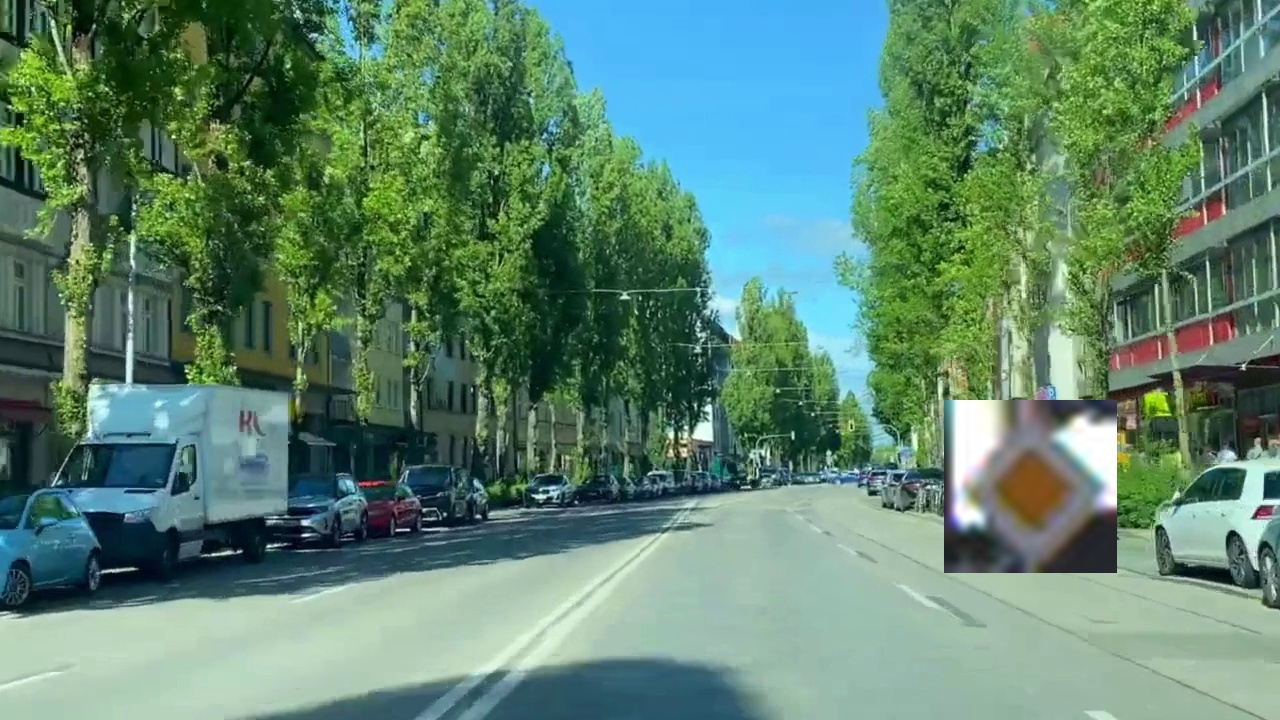Priority road: (944, 400, 1117, 573)
